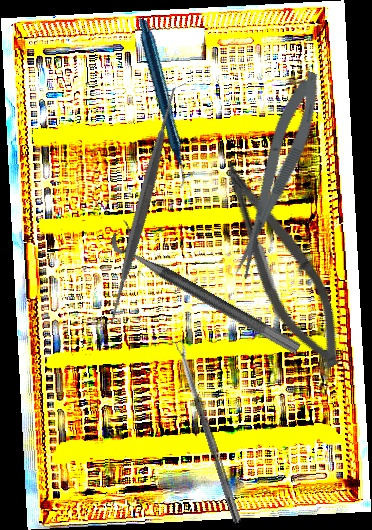Fixation Ring: (106, 218, 311, 357)
Handpiece: (86, 17, 236, 190)
Micro Scissor: (197, 153, 364, 378), (220, 66, 331, 283)
Spatula Surgical: (20, 82, 265, 330)
Surgical Spoon: (175, 340, 243, 525)
